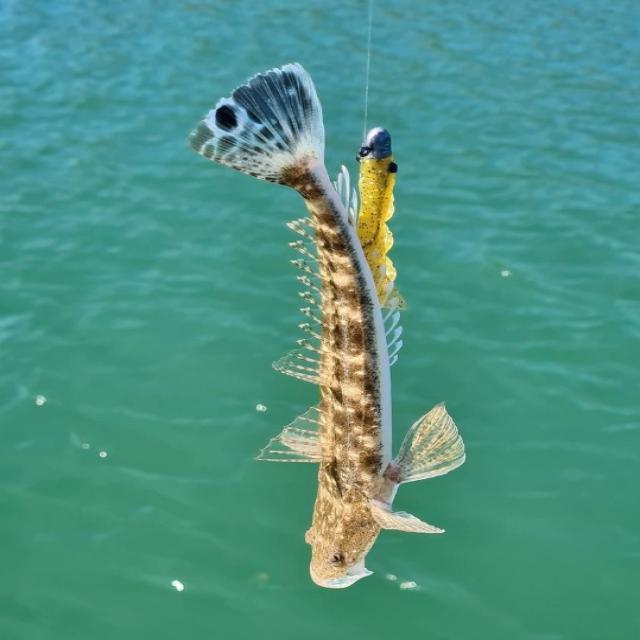Flathead: (164, 55, 477, 594)
